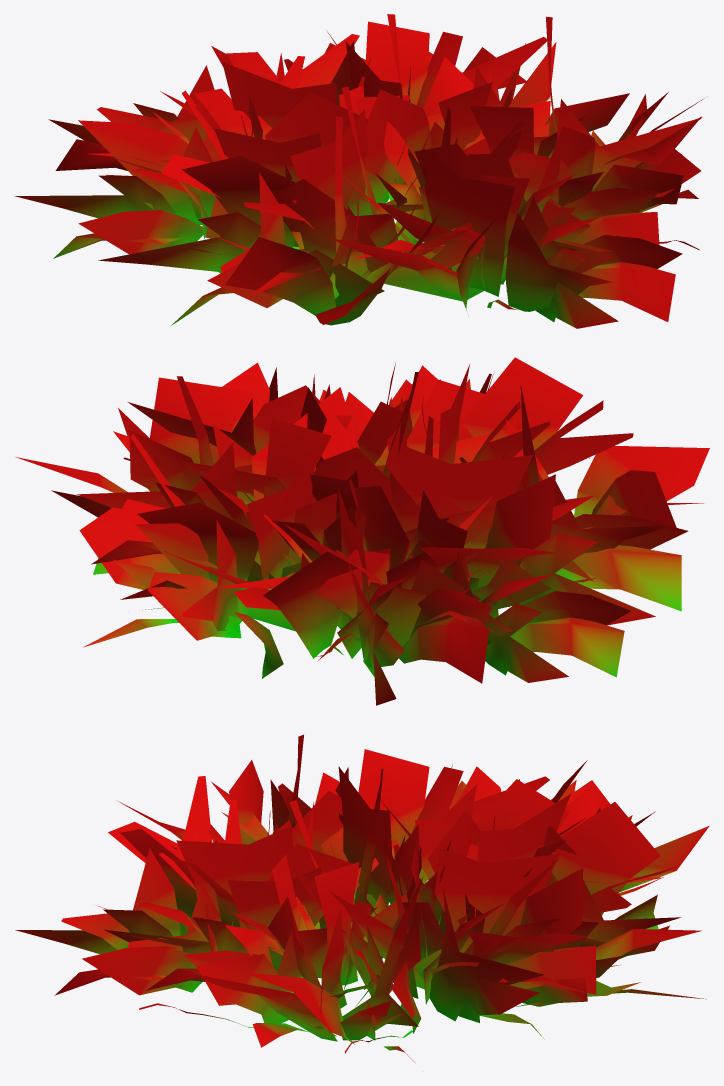
Rendered from Tundra Grass_LOD4_Var27_wk2oaeyqx.fbx.
The picture shows the model from 3 angles, top to bottom: view 1: azimuth 30°, elevation 25°; view 2: azimuth 150°, elevation 25°; view 3: azimuth 270°, elevation 25°; orthographic projection. The views are drawn at different scales.
Visible parts, largest first — view 1: _hp33_Var27_LOD4; view 2: _hp33_Var27_LOD4; view 3: _hp33_Var27_LOD4.
Part boxes in pixels (x1,y1,x2,y2): _hp33_Var27_LOD4: (14,14,704,328); _hp33_Var27_LOD4: (15,357,709,705); _hp33_Var27_LOD4: (15,734,709,1062).
Bounding box in the file's own units: 78.02 × 22.26 × 76.4.
